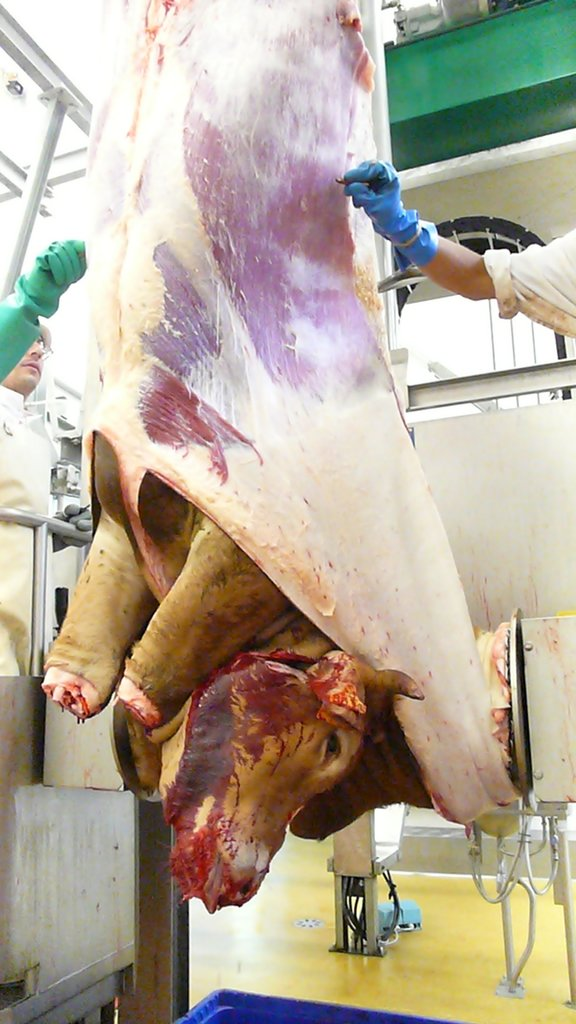Person: (342, 159, 576, 338)
